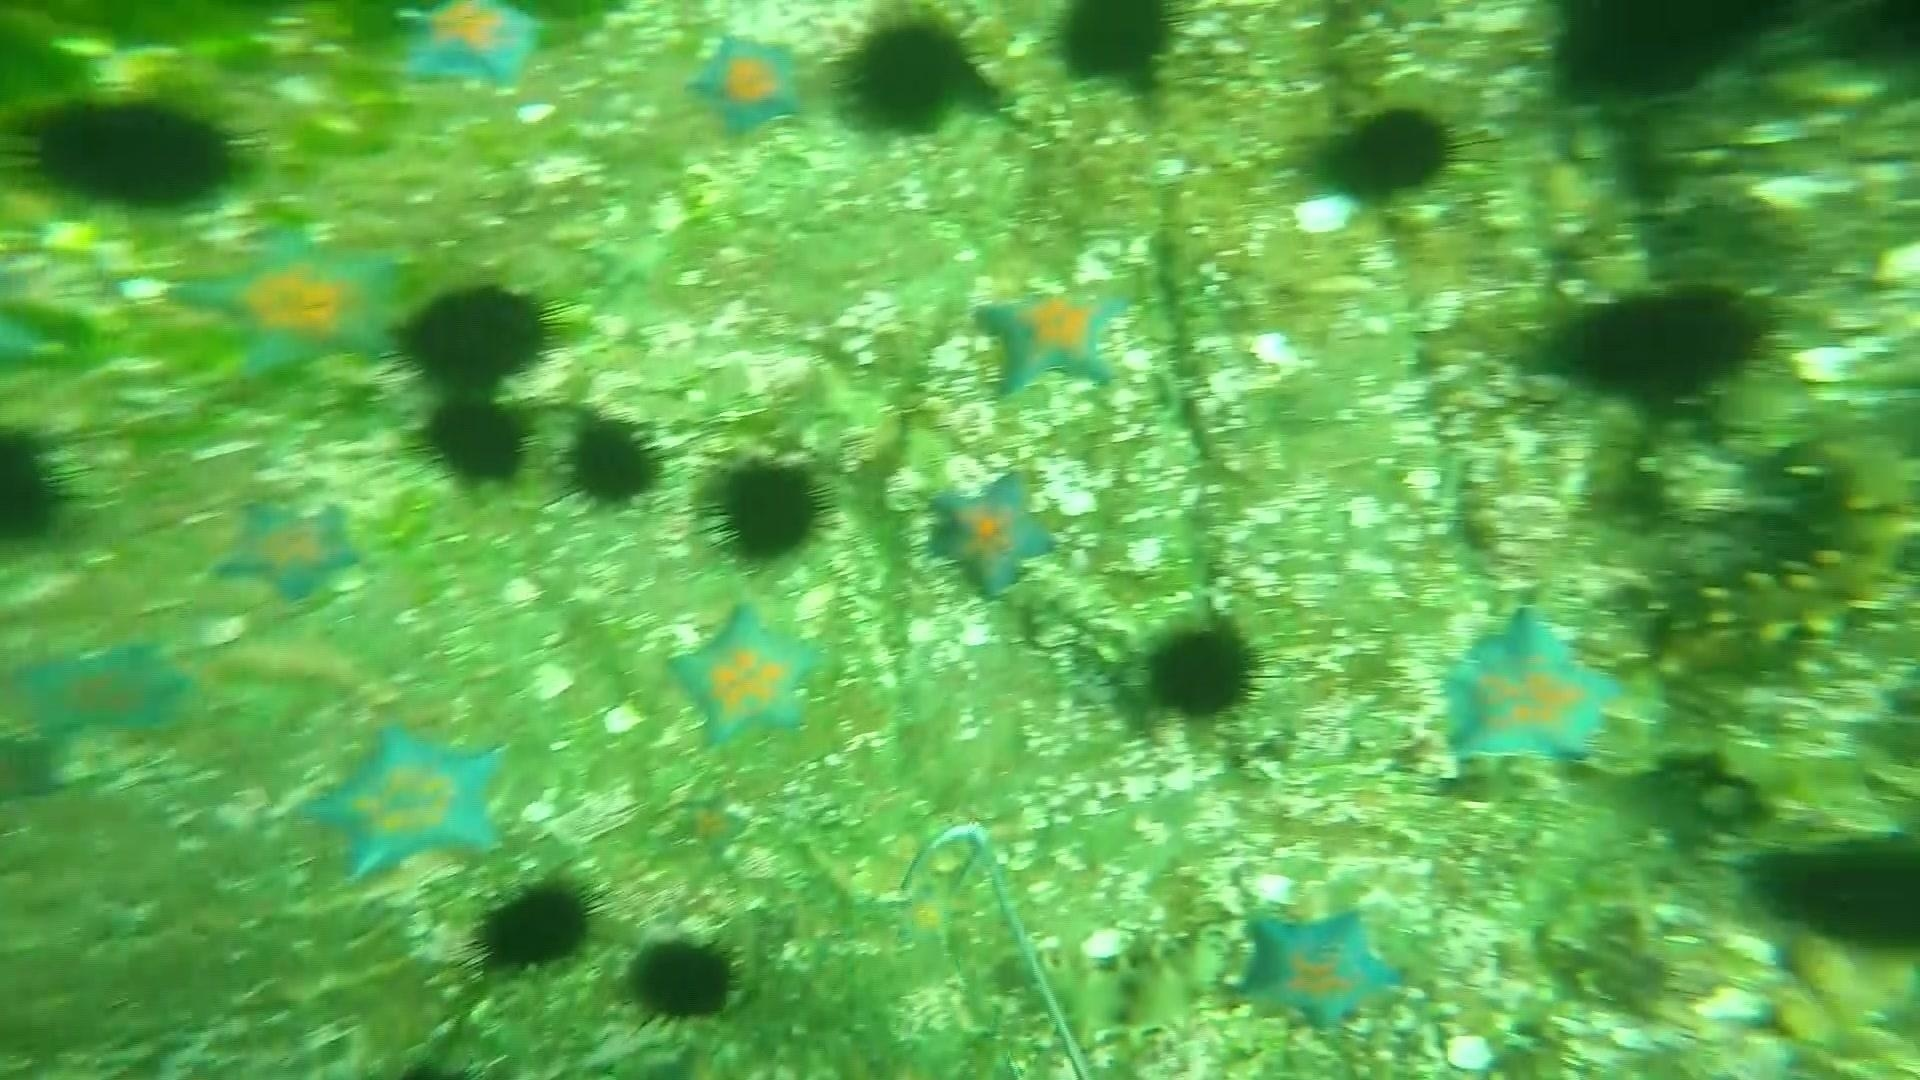echinus: (15, 87, 249, 218), (1552, 278, 1785, 406), (1536, 3, 1793, 108), (1749, 829, 1919, 960), (388, 276, 568, 394), (832, 7, 988, 140), (699, 452, 836, 568), (1313, 100, 1465, 204), (1138, 612, 1270, 727), (465, 872, 603, 978), (1044, 3, 1191, 94), (413, 393, 535, 493), (622, 932, 742, 1029), (1, 417, 84, 553), (559, 411, 666, 512)
holothurian: (1680, 417, 1917, 680)
starfish: (171, 223, 415, 396), (310, 717, 513, 884), (1436, 604, 1629, 771), (665, 601, 829, 754), (1233, 902, 1408, 1035), (972, 272, 1143, 400), (11, 634, 193, 752), (920, 465, 1062, 604), (211, 495, 364, 609), (392, 1, 550, 94), (684, 32, 811, 141), (882, 852, 980, 975), (1, 298, 74, 378), (670, 796, 749, 857)
